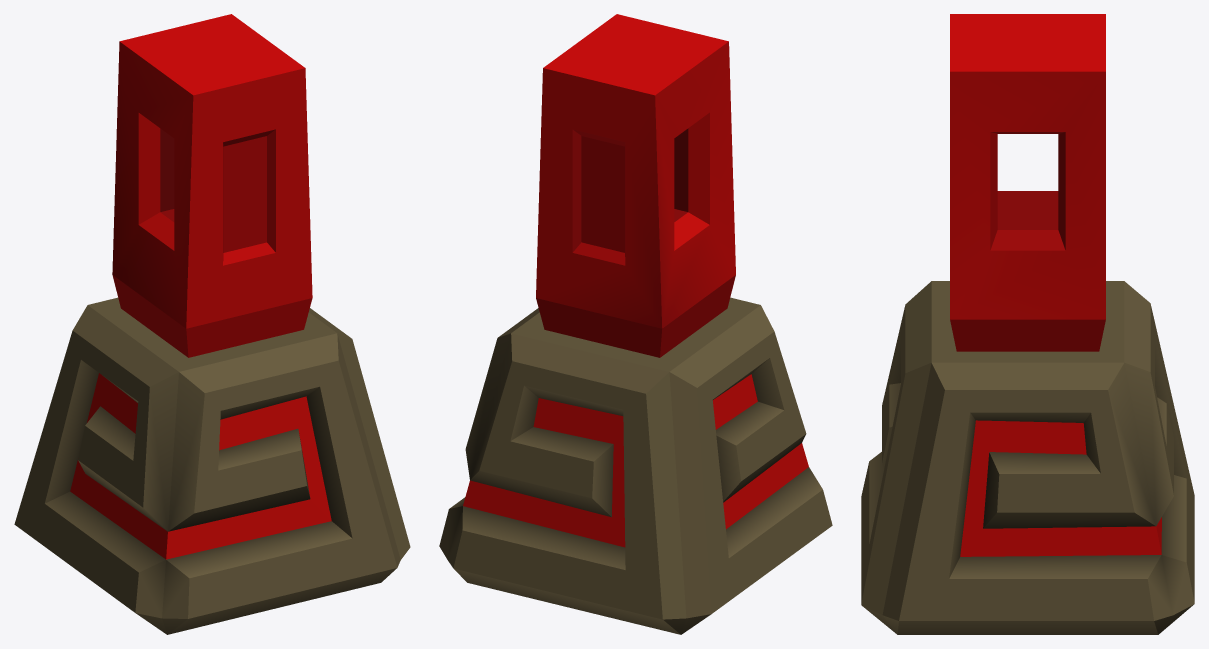
File: ENV_SingingStone_Red_01.fbx
3 views of the same model, side by side, from view 1: azimuth 30°, elevation 25°; view 2: azimuth 150°, elevation 25°; view 3: azimuth 270°, elevation 25° (orthographic). The views are drawn at different scales.
Parts seen in each view (by area): view 1: ENV_SingingStone_Red_01; view 2: ENV_SingingStone_Red_01; view 3: ENV_SingingStone_Red_01.
Boxes of the visible parts, x1,y1,x2,y2 form: ENV_SingingStone_Red_01: (14, 14, 410, 634); ENV_SingingStone_Red_01: (439, 14, 832, 634); ENV_SingingStone_Red_01: (861, 14, 1194, 634).
Bounding box in the file's own units: 107 × 190 × 107.
